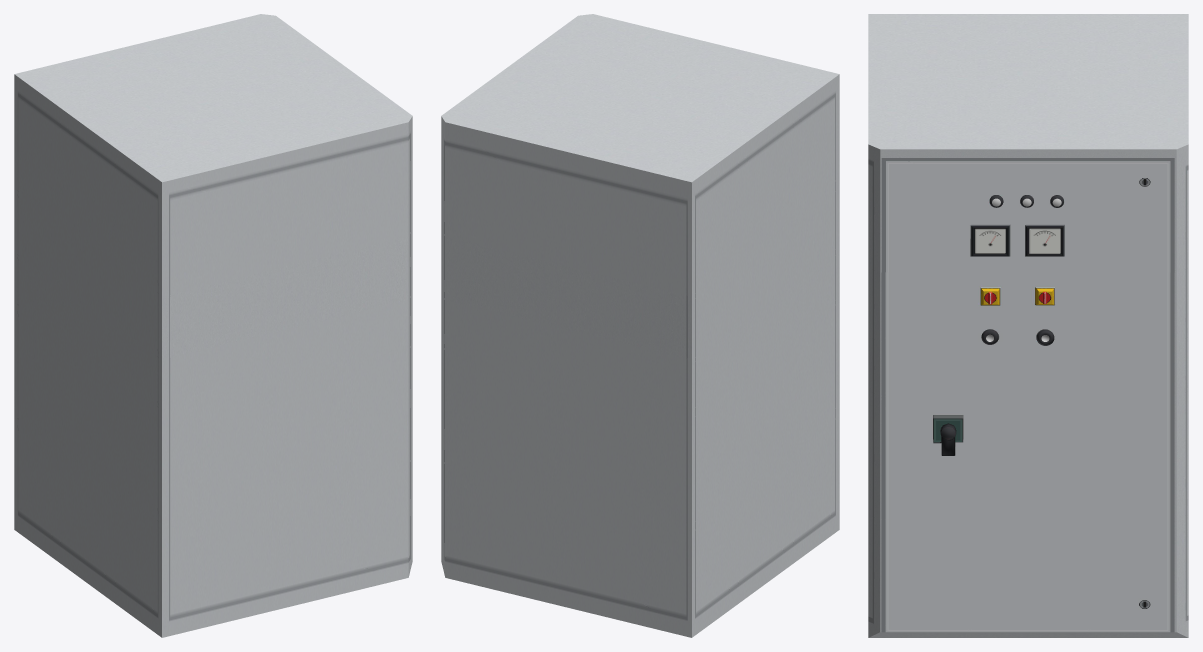
Rendered from Pnnel.fbx.
3 views of the same model, side by side, from view 1: azimuth 30°, elevation 25°; view 2: azimuth 150°, elevation 25°; view 3: azimuth 270°, elevation 25° (orthographic). The views are drawn at different scales.
Visible parts, largest first — view 1: PannelBox; view 2: PannelBox; view 3: PannelBox.
Boxes of the visible parts, left/top/right/bottom form: PannelBox: left=14, top=14, right=412, bottom=637; PannelBox: left=441, top=14, right=839, bottom=637; PannelBox: left=868, top=14, right=1188, bottom=637.
Size of the model in its own units: 210 by 340 by 200.
